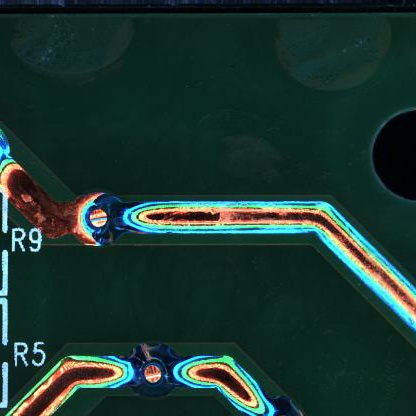spot: (69, 190, 125, 245), (128, 344, 180, 397)
